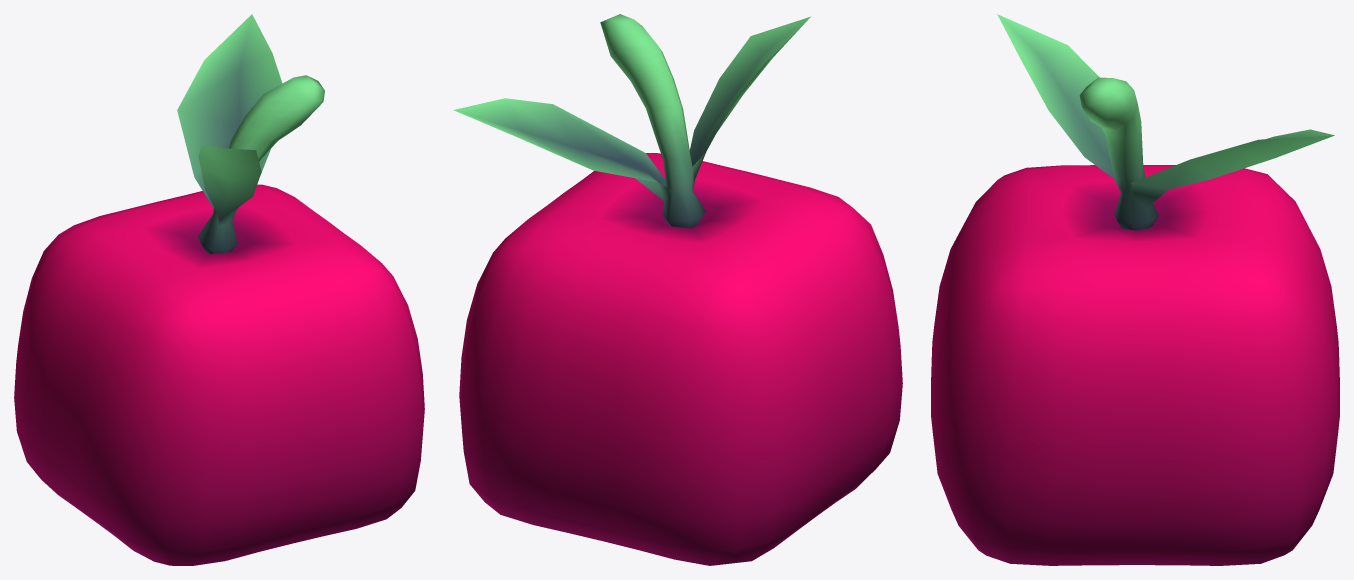
The model's file is ij_Cuberry.glb.
The picture shows the model from 3 angles, left to right: view 1: azimuth 30°, elevation 25°; view 2: azimuth 150°, elevation 25°; view 3: azimuth 270°, elevation 25°; orthographic projection. The views are drawn at different scales.
Parts seen in each view (by area): view 1: cuberry; view 2: cuberry; view 3: cuberry.
Boxes of the visible parts, box(x1,y1,x2,y2) form: cuberry: box(14, 14, 424, 565); cuberry: box(453, 14, 902, 565); cuberry: box(931, 14, 1339, 565).
Size of the model in its own units: 2.37 by 2.99 by 2.37.
Materials: 1 (1 with a texture image).
